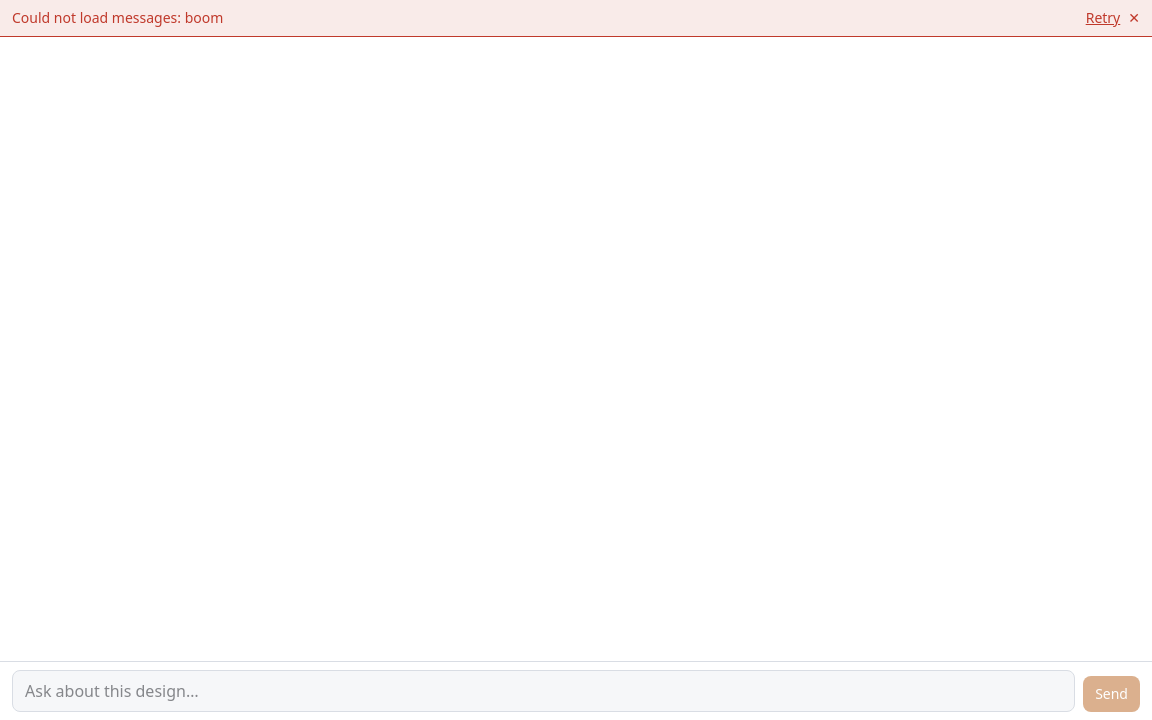
ChatPanel › a failed initial load shows a Retry button that loads the history
Expected: the message shows "Could not load messages", left=12, top=8, right=223, bottom=27
Expected: the text box named "Message" is disabled, left=12, top=670, right=1075, bottom=712
Click the button "Retry" at [1103, 18], box left=1086, top=8, right=1120, bottom=28
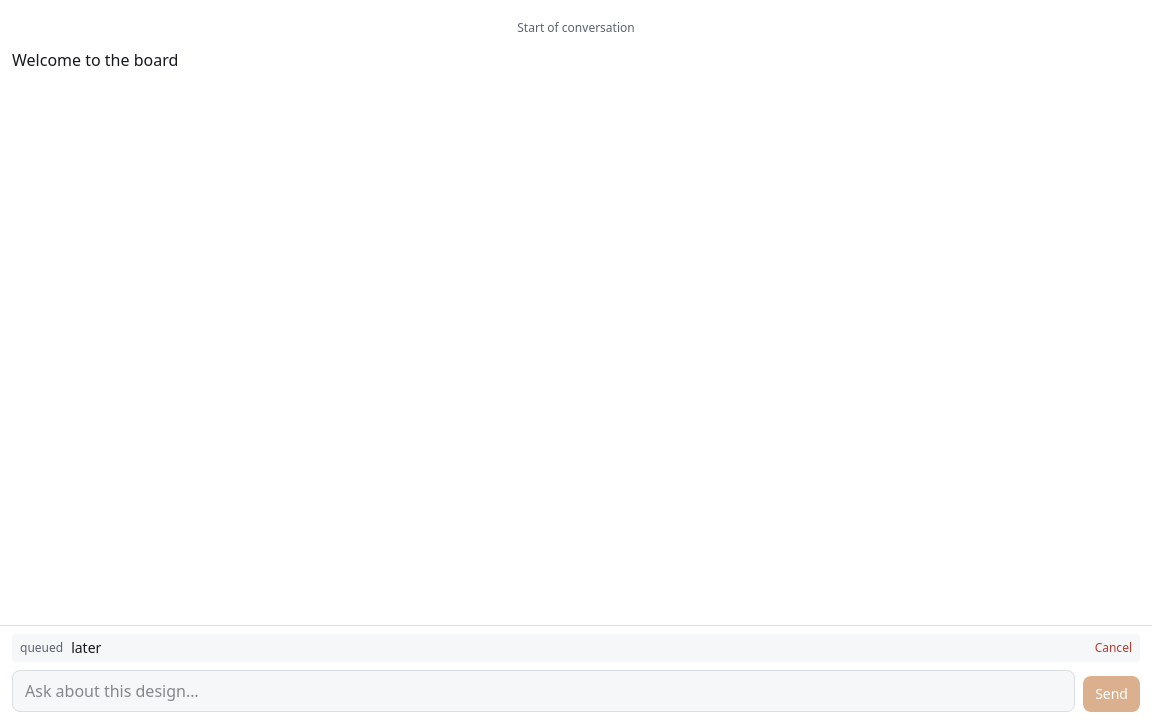
Expected: the text box named "Message" is enabled, left=12, top=670, right=1075, bottom=712
Result: the text "Welcome to the board" is shown at left=12, top=49, right=178, bottom=71
Result: the message "Could not load messages: boom Retry ✕" is gone
